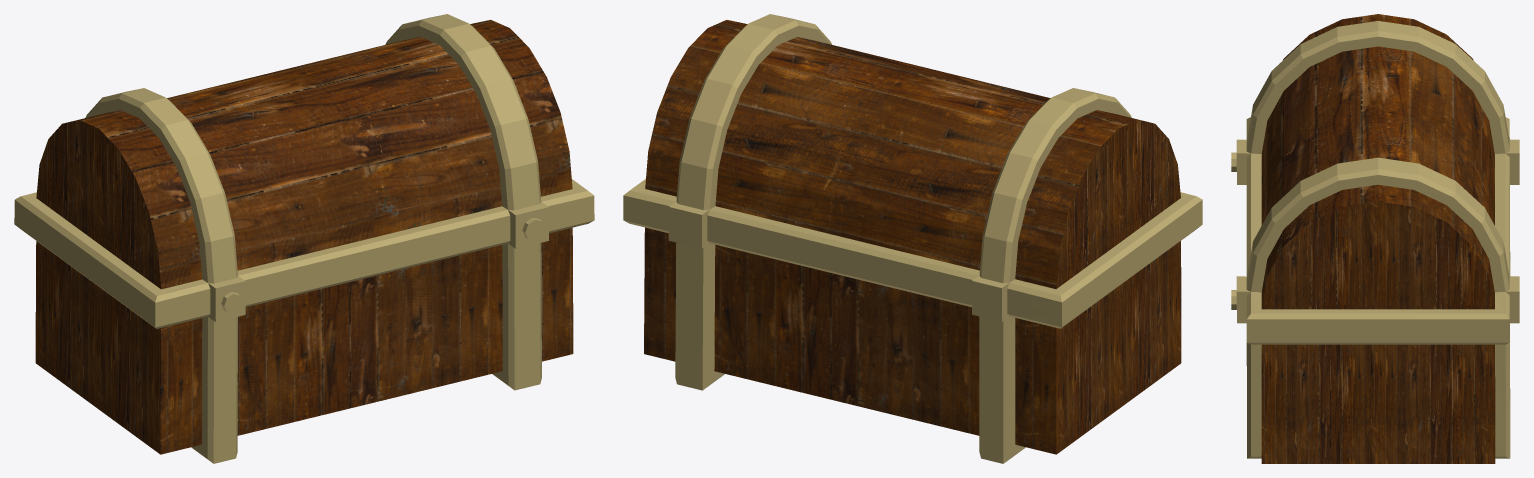
File: coffre_01.fbx
3 views of the same model, side by side, from view 1: azimuth 30°, elevation 25°; view 2: azimuth 150°, elevation 25°; view 3: azimuth 270°, elevation 25° (orthographic). The views are drawn at different scales.
Visible parts, largest first — view 1: coffre_01:coffre; view 2: coffre_01:coffre; view 3: coffre_01:coffre.
Boxes of the visible parts, x1,y1,x2,y2 form: coffre_01:coffre: [14, 14, 594, 463]; coffre_01:coffre: [623, 14, 1202, 463]; coffre_01:coffre: [1231, 14, 1519, 463].
Size of the model in its own units: 9.54 by 6.42 by 5.81.
